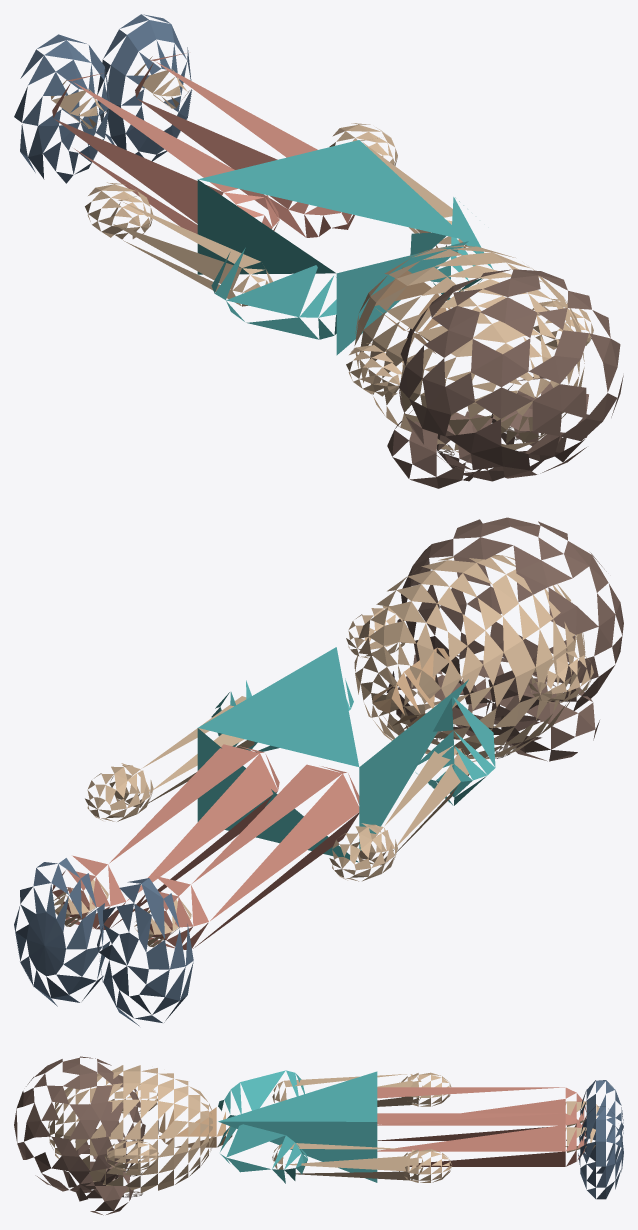
File: janus_character_1500_faces.glb
3 renders of one model, top to bottom at view 1: azimuth 30°, elevation 25°; view 2: azimuth 150°, elevation 25°; view 3: azimuth 270°, elevation 25°, orthographic. The views are drawn at different scales.
Parts seen in each view (by area): view 1: HairCap, Shirt, Head, LeftTrouser, RightTrouser, LeftShoe, RightShoe, LeftSleeve, LeftArm, Fringe1, LeftHand, Fringe2 (+9 smaller); view 2: Head, Shirt, HairCap, LeftTrouser, RightTrouser, RightShoe, LeftShoe, LeftSleeve, LeftArm, Fringe1, RightHand, LeftHand (+6 smaller); view 3: Shirt, Head, HairCap, RightTrouser, LeftTrouser, RightArm, RightShoe, RightSleeve, LeftSleeve, LeftShoe, LeftArm, Fringe3 (+8 smaller).
Boxes of the visible parts, bbox=[...] form: HairCap: bbox=[398, 269, 623, 478]; Shirt: bbox=[197, 140, 468, 355]; Head: bbox=[354, 245, 584, 452]; LeftTrouser: bbox=[52, 73, 279, 233]; RightTrouser: bbox=[135, 52, 354, 237]; LeftShoe: bbox=[14, 34, 109, 183]; RightShoe: bbox=[97, 14, 192, 161]; LeftSleeve: bbox=[211, 247, 336, 339]; LeftArm: bbox=[111, 195, 272, 306]; Fringe1: bbox=[387, 409, 481, 488]; LeftHand: bbox=[85, 182, 153, 239]; Fringe2: bbox=[437, 393, 564, 481]; Head: bbox=[354, 554, 585, 761]; Shirt: bbox=[197, 647, 468, 862]; HairCap: bbox=[397, 517, 623, 724]; LeftTrouser: bbox=[135, 764, 359, 949]; RightTrouser: bbox=[52, 744, 279, 929]; RightShoe: bbox=[14, 858, 110, 1006]; LeftShoe: bbox=[97, 878, 193, 1026]; LeftSleeve: bbox=[413, 697, 495, 805]; LeftArm: bbox=[350, 747, 469, 865]; Fringe1: bbox=[495, 675, 599, 761]; RightHand: bbox=[85, 765, 153, 821]; LeftHand: bbox=[329, 824, 397, 881]; Shirt: bbox=[218, 1071, 377, 1182]; Head: bbox=[48, 1065, 214, 1193]; HairCap: bbox=[14, 1056, 145, 1193]; RightTrouser: bbox=[377, 1113, 586, 1166]; LeftTrouser: bbox=[377, 1087, 586, 1140]; RightArm: bbox=[272, 1143, 423, 1180]; RightShoe: bbox=[578, 1106, 623, 1199]; RightSleeve: bbox=[218, 1124, 307, 1183]; LeftSleeve: bbox=[218, 1070, 304, 1118]; LeftShoe: bbox=[579, 1080, 623, 1173]; LeftArm: bbox=[272, 1074, 422, 1106]; Fringe3: bbox=[74, 1161, 133, 1215].
Bounding box in the file's own units: 1.43 × 0.945 × 3.98.
